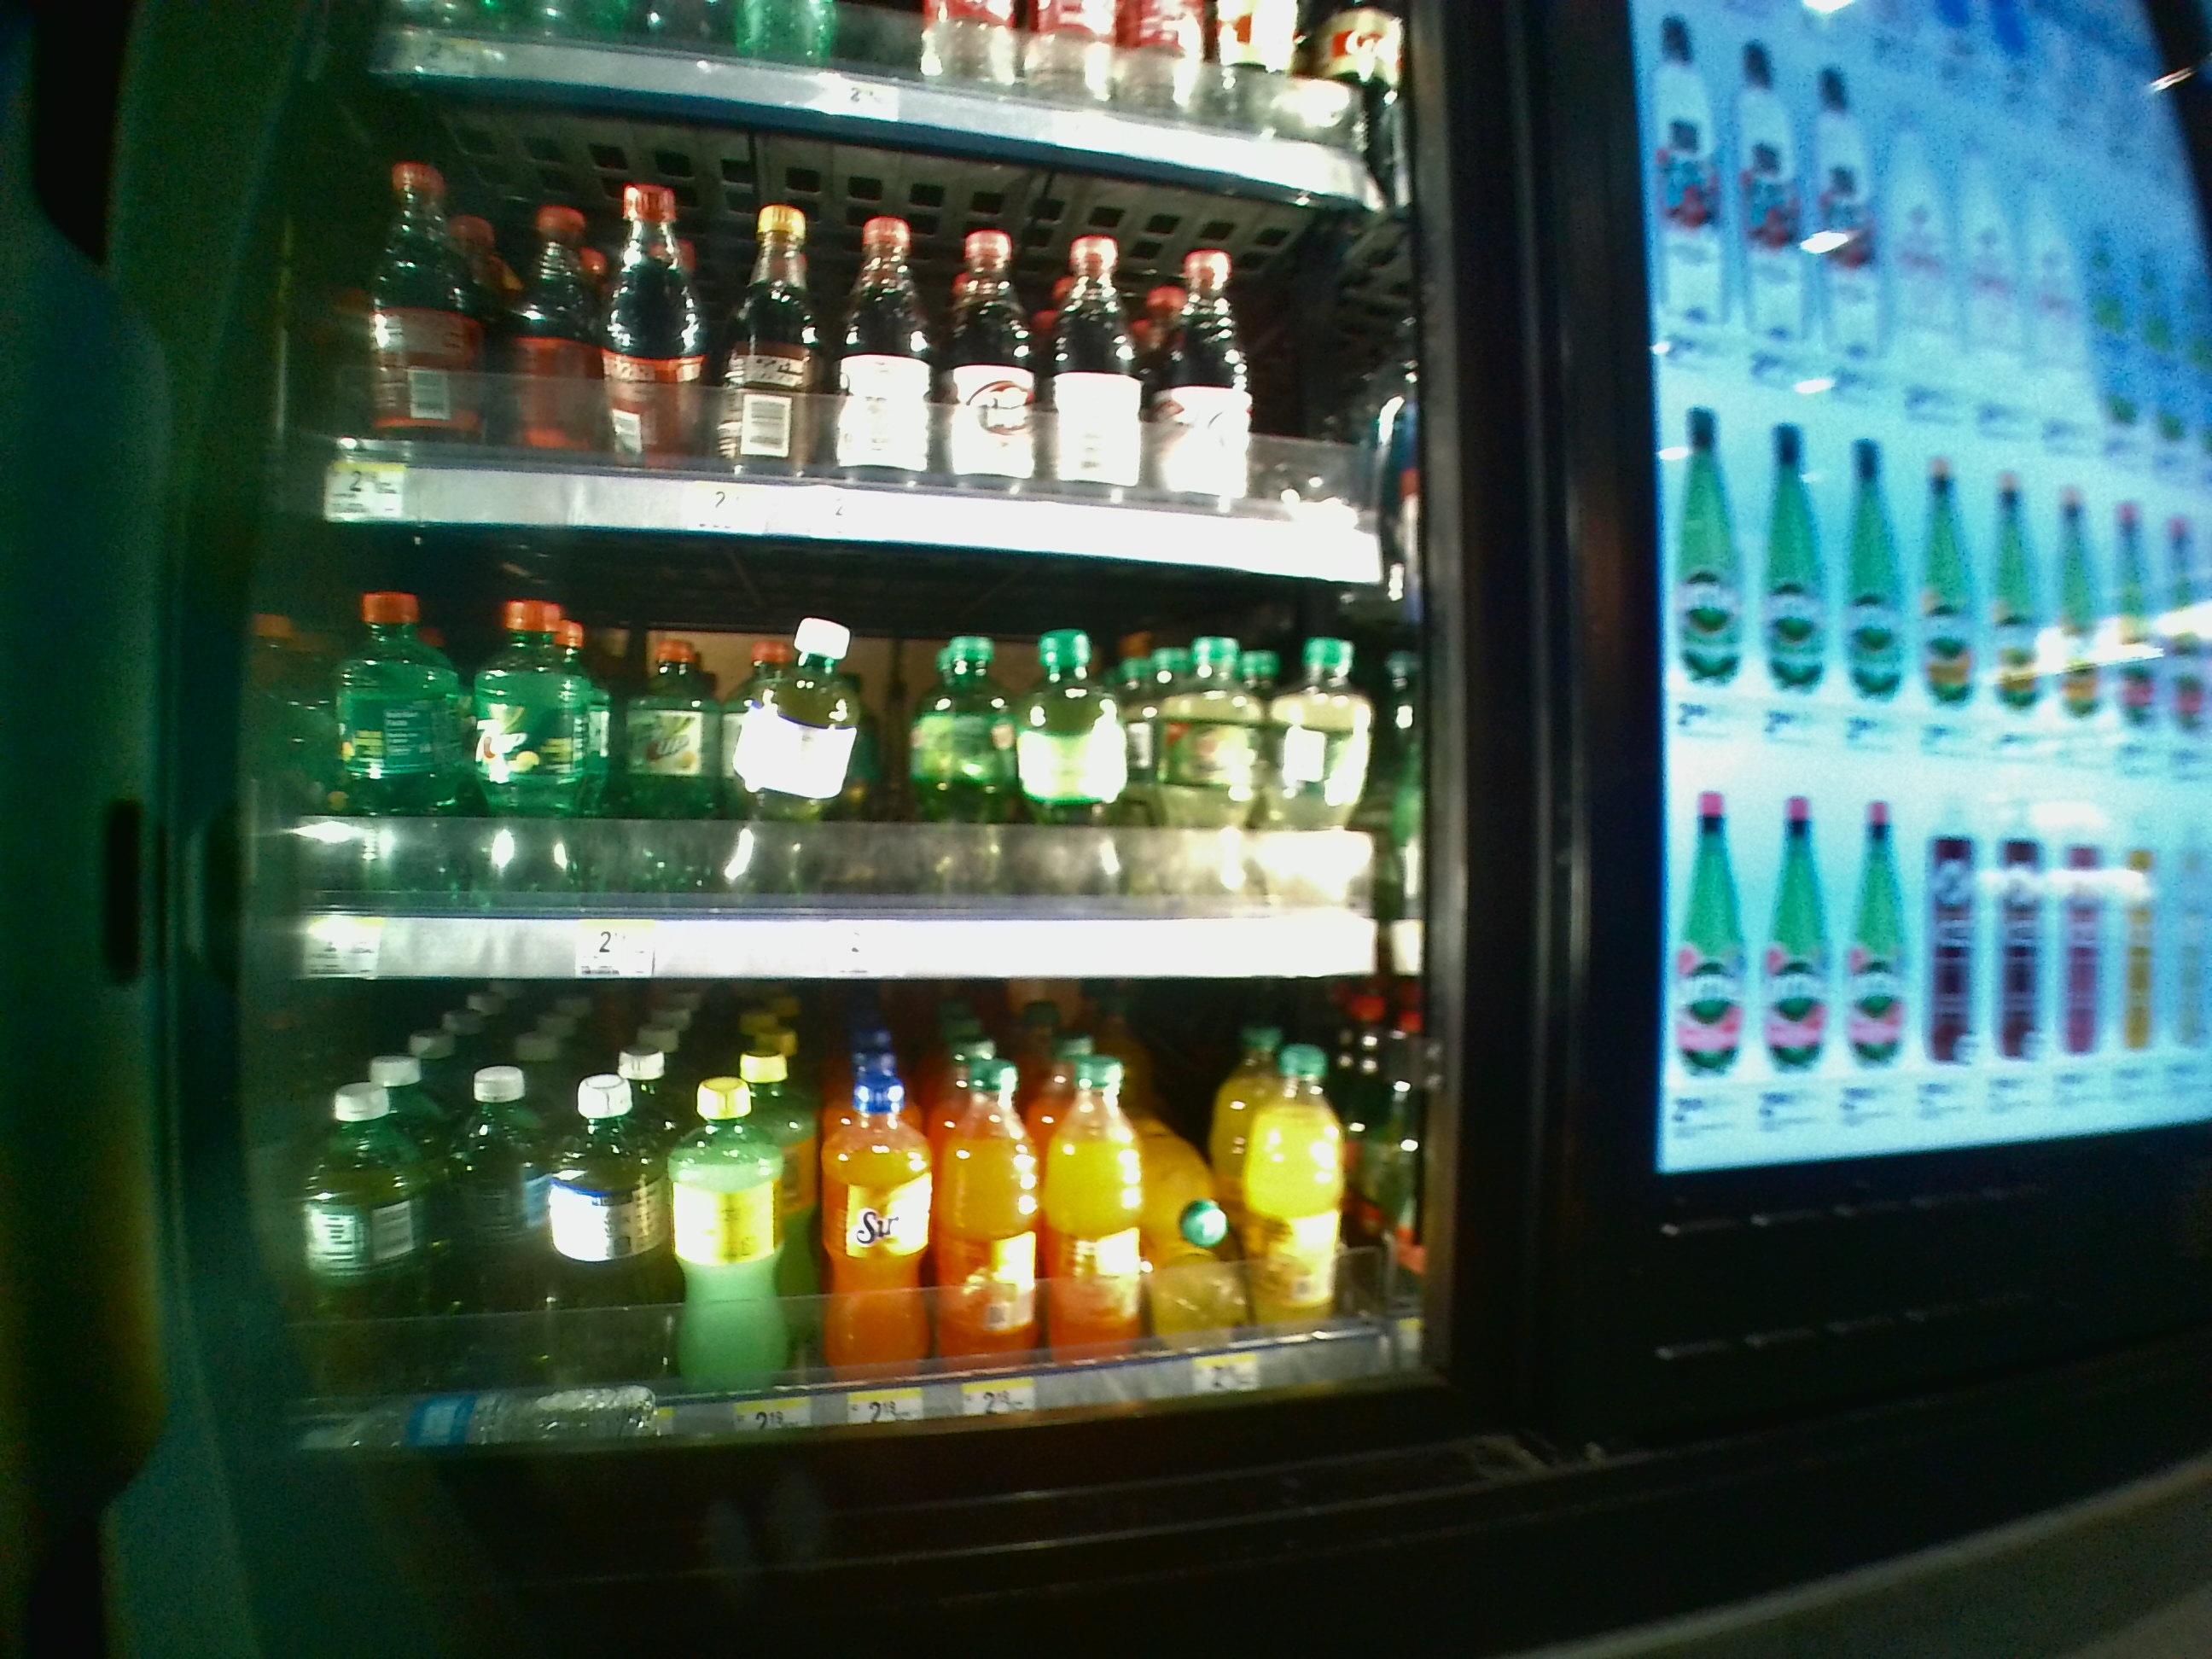shelf: (279, 990, 1418, 1445), (280, 532, 1413, 983)
